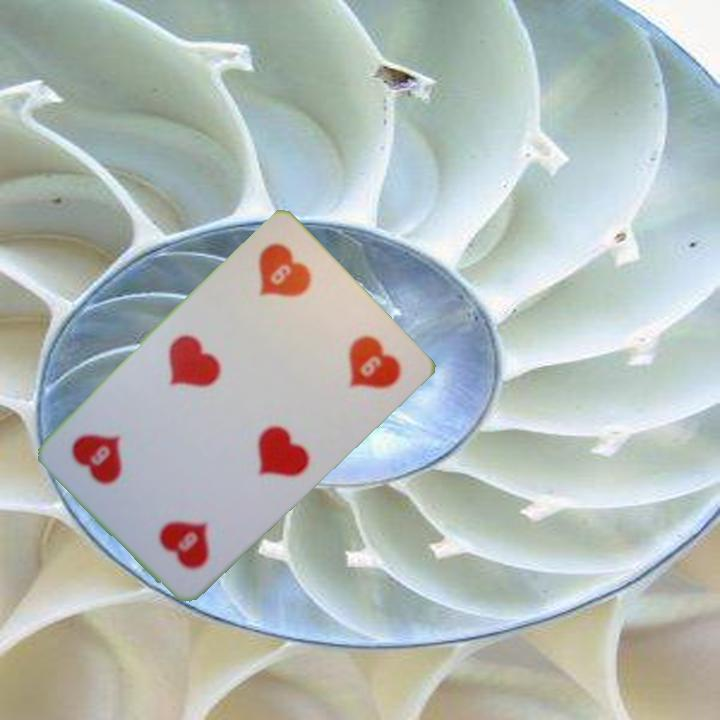h_6.png: (115, 459, 244, 588), (221, 228, 350, 357)
